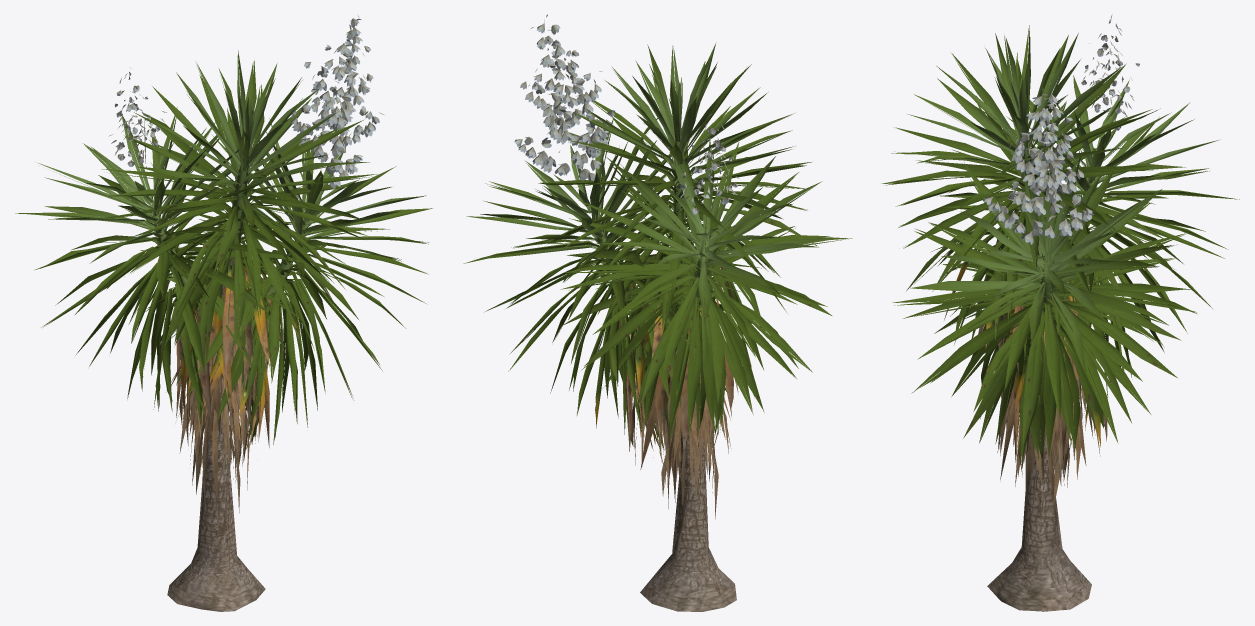
The model's file is yucca_a.glb.
The picture shows the model from 3 angles, left to right: view 1: azimuth 30°, elevation 25°; view 2: azimuth 150°, elevation 25°; view 3: azimuth 270°, elevation 25°; orthographic projection. The views are drawn at different scales.
Parts seen in each view (by area): view 1: Yucca_elephantipes_HD_Yucca bud_0; view 2: Yucca_elephantipes_HD_Yucca bud_0; view 3: Yucca_elephantipes_HD_Yucca bud_0.
Boxes of the visible parts, bbox=[...] form: Yucca_elephantipes_HD_Yucca bud_0: bbox=[15, 15, 432, 611]; Yucca_elephantipes_HD_Yucca bud_0: bbox=[463, 14, 852, 611]; Yucca_elephantipes_HD_Yucca bud_0: bbox=[881, 14, 1239, 611].
Bounding box in the file's own units: 1.44 × 2.05 × 1.15.
Materials: 12 (12 with a texture image).
